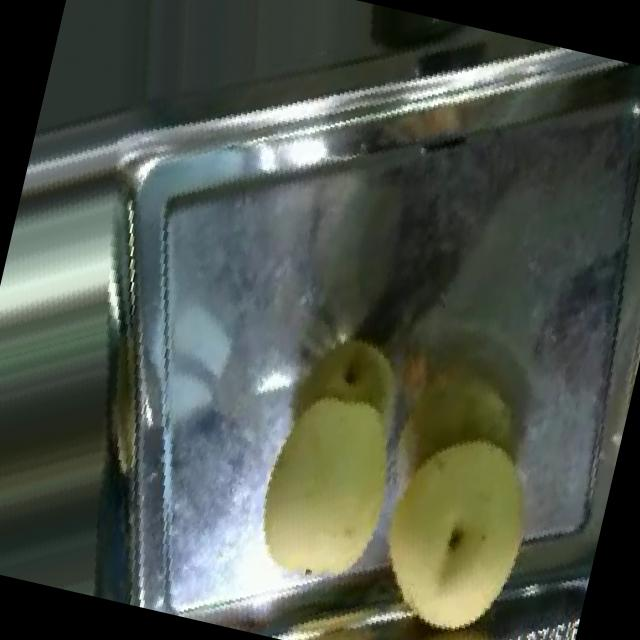Fruit: (208, 352, 442, 624), (342, 396, 576, 640)
